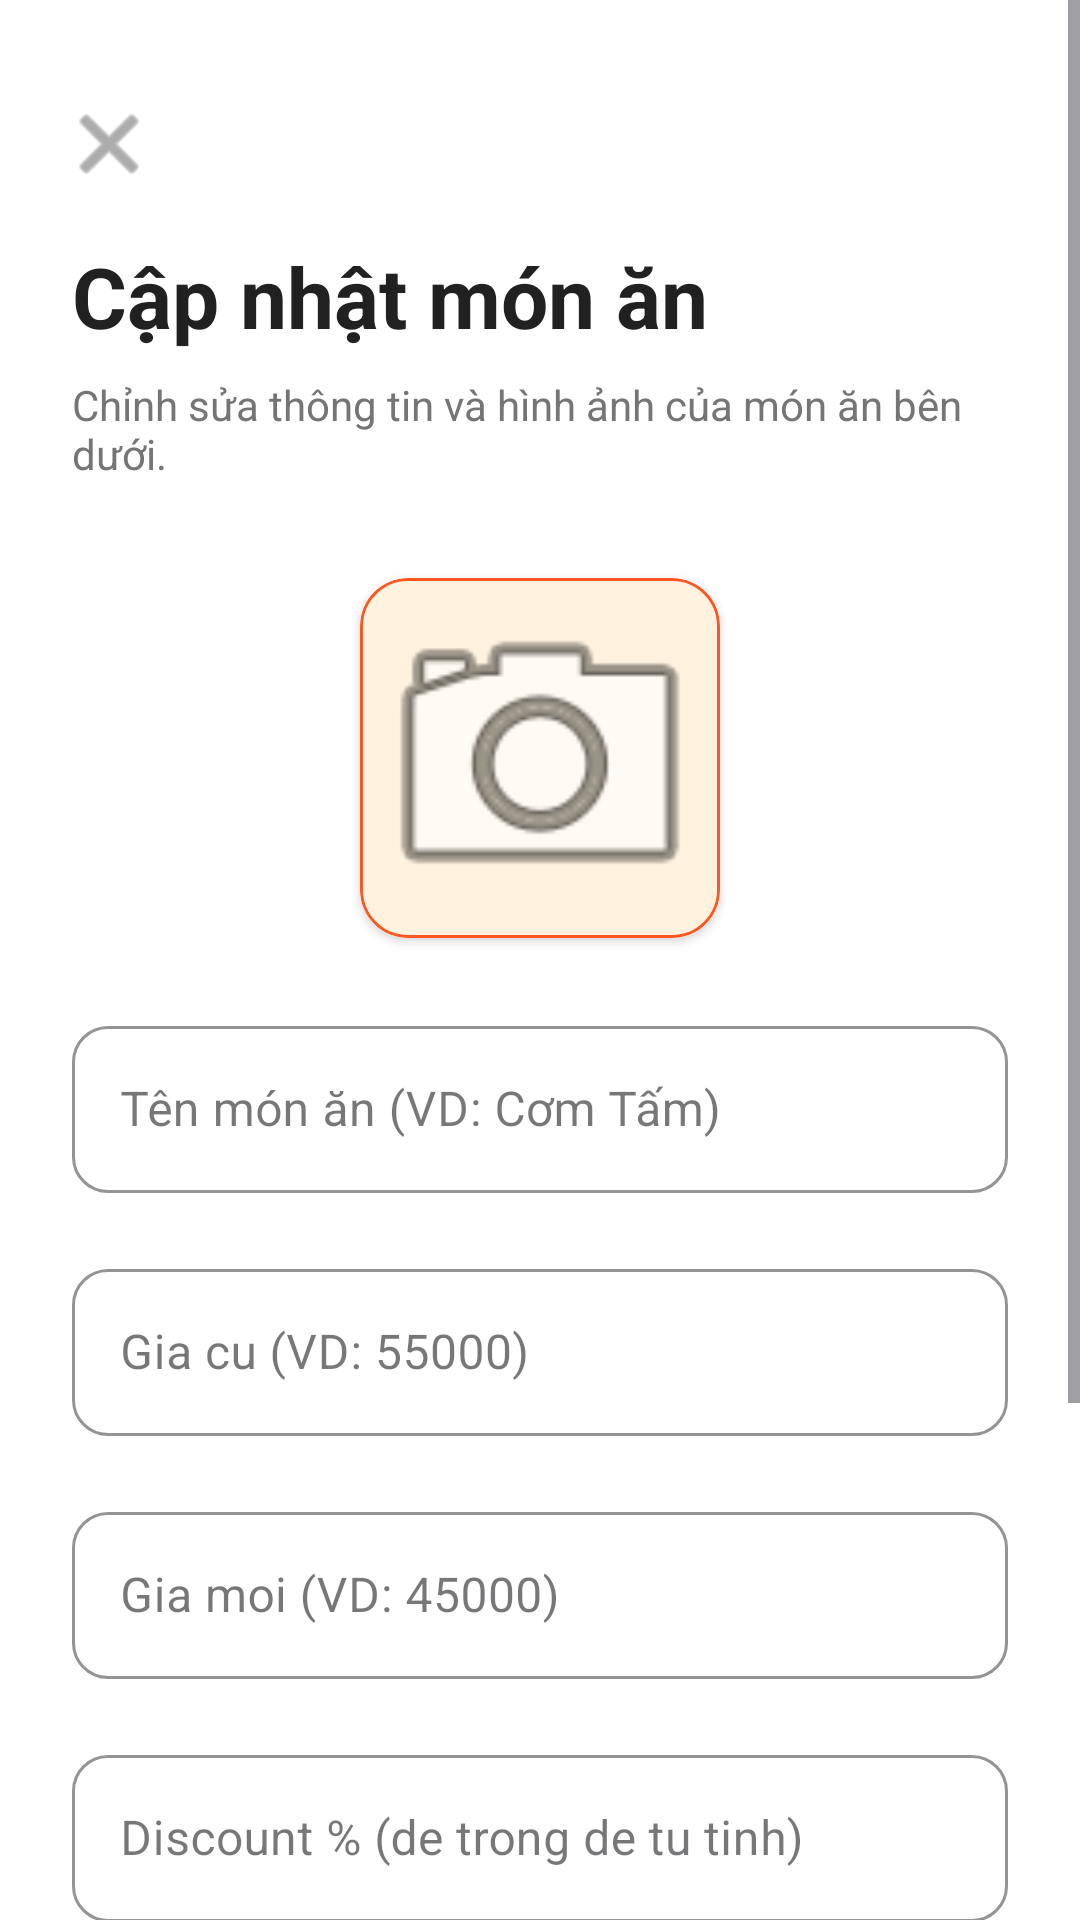

Screen size 1080px×1920px. Icon name, then its box in pixels as (x1, y1, x2, y2):
camera: (360, 578, 720, 938)
close clear cancel: (79, 114, 139, 174)
